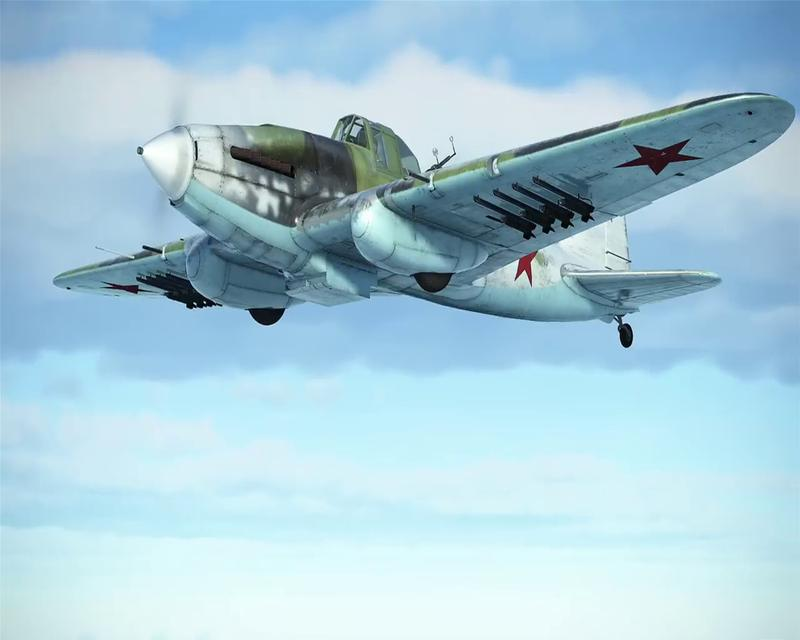UAV: (51, 94, 797, 349)
